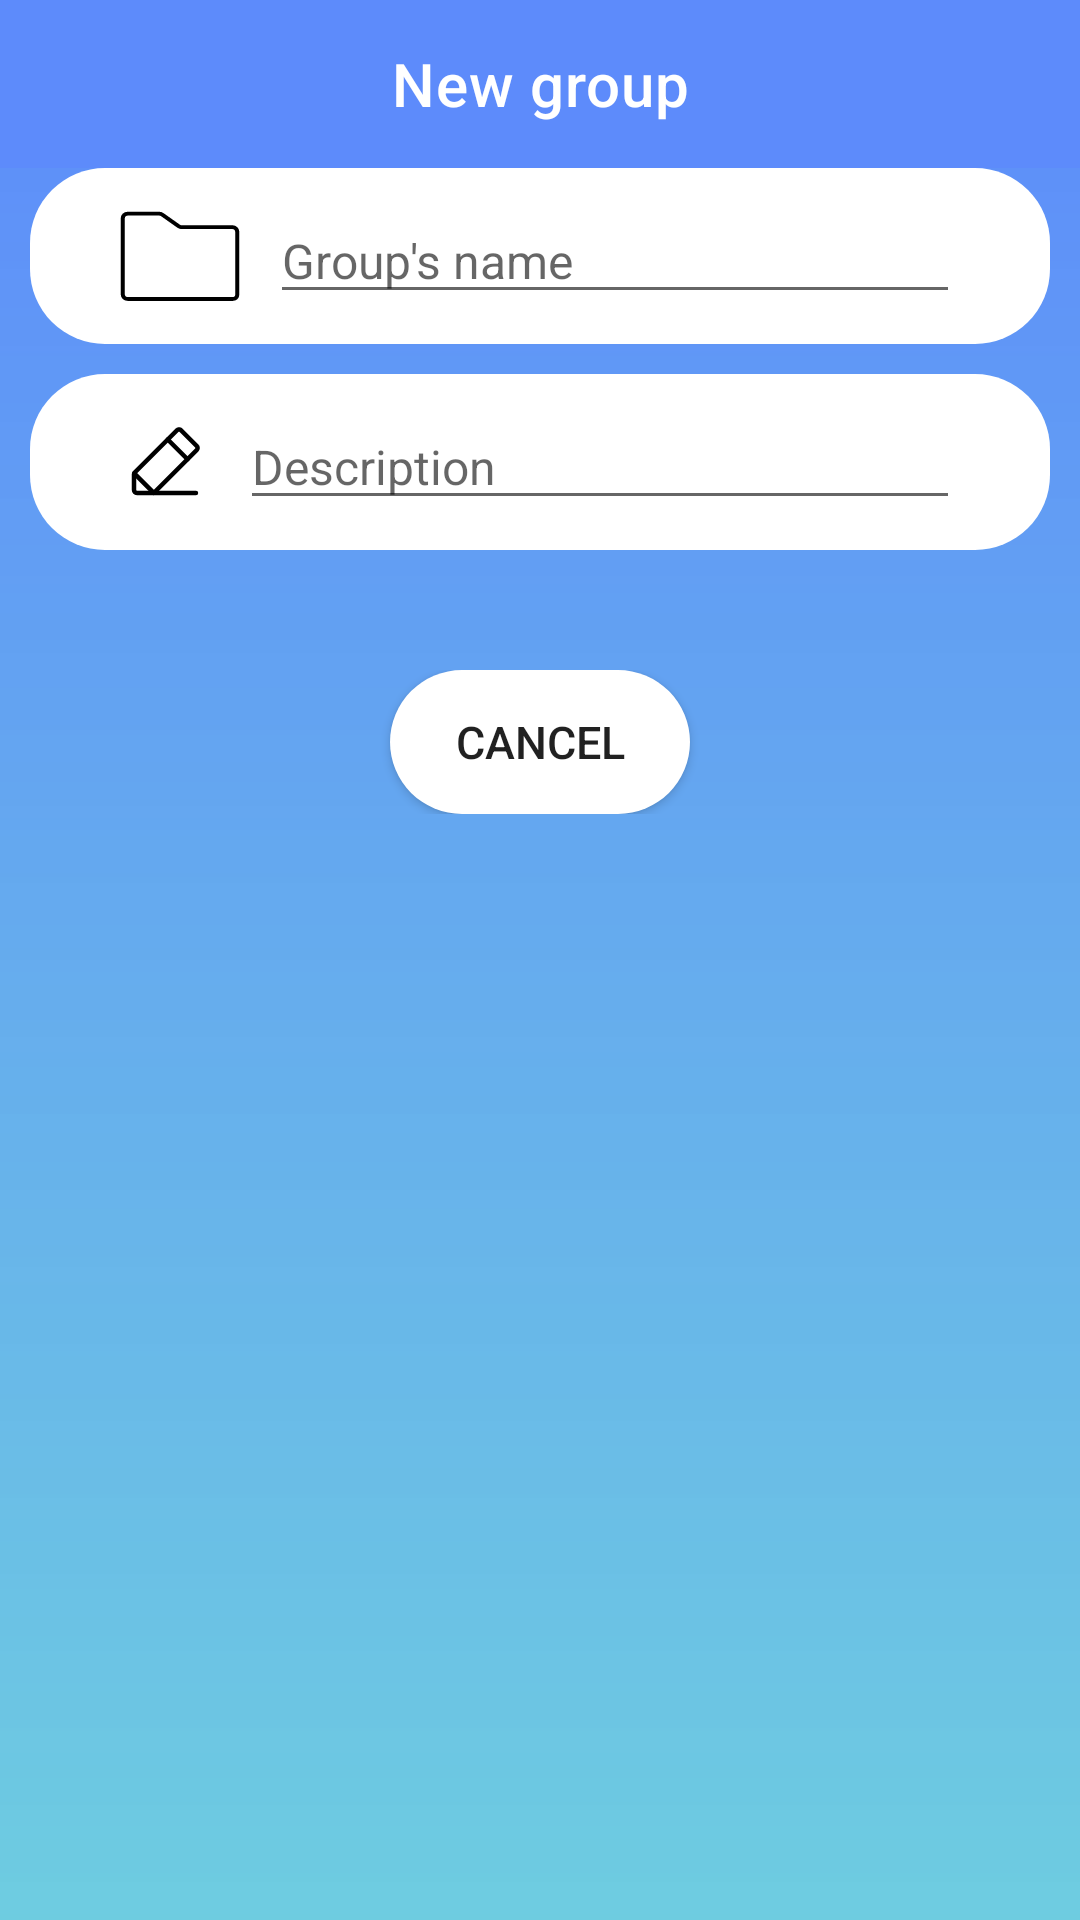

Where icons sit on this 1080px x 1920px app screen, as {"x1": x1, "y1": y1, "x2": x2, "y2": y2}:
pencilline: {"x1": 131, "y1": 427, "x2": 200, "y2": 496}
